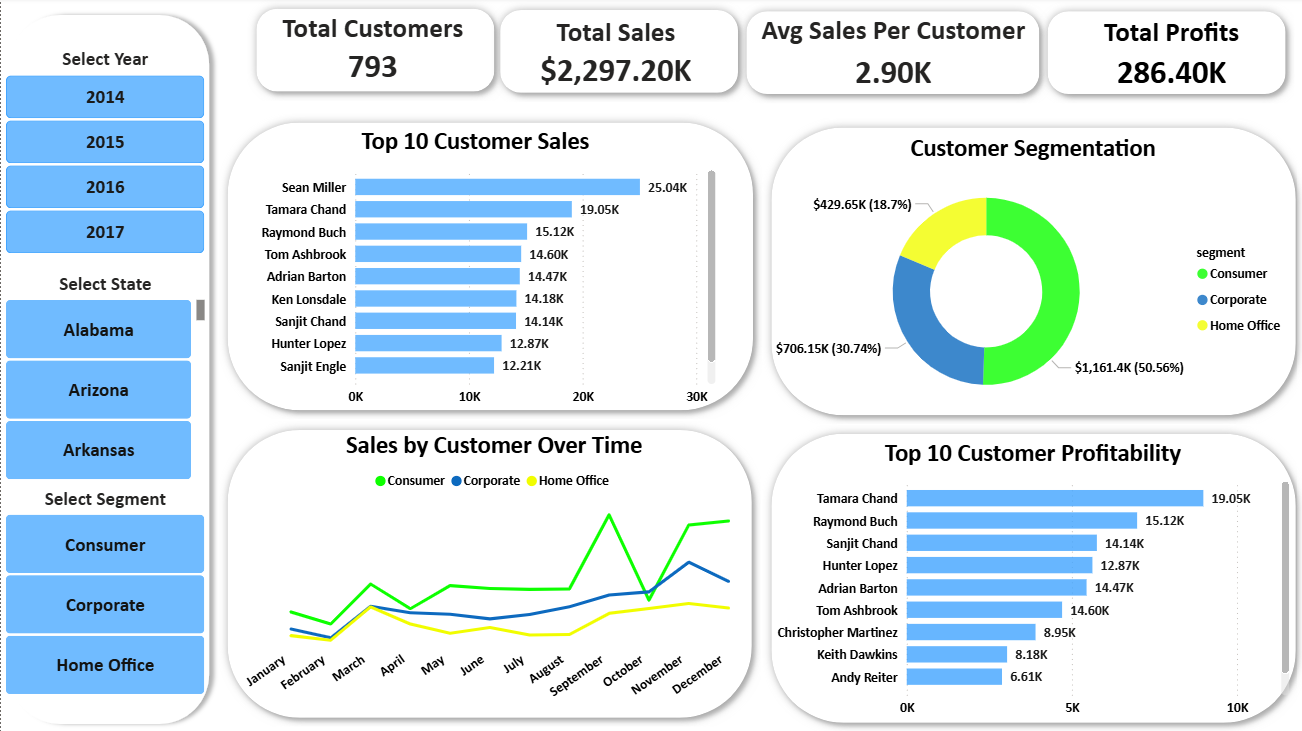

What the dashboard file says about the page in this screenshot:
{"tool":"powerbi","page":{"name":"Customers","canvas":[1280,720],"ordinal":1},"visuals":[{"type":"shape","box":[0,8.6,212.8,711.7],"z":0},{"type":"shape","box":[240.9,2.4,250.7,99],"z":1000},{"type":"shape","box":[479.4,3.7,250.7,99],"z":2000},{"type":"shape","box":[720.2,4.9,304.5,99],"z":3000},{"type":"shape","box":[212.8,113.7,531.9,299.6],"z":4000},{"type":"shape","box":[212.8,414.5,530.7,299.6],"z":5000},{"type":"shape","box":[744.2,119.1,531,299.6],"z":6000},{"type":"shape","box":[744.2,418.7,531,300.8],"z":7000},{"type":"card","title":"Total Customers","fields":{"Values":["customer.Total Customers"]},"box":[248.2,8.6,231.1,83.2],"z":8000},{"type":"card","title":"Total Sales","fields":{"Values":["customer.Total Customer Sales"]},"box":[483,12.2,237.2,83.2],"z":9000},{"type":"card","title":"Avg Sales Per Customer","fields":{"Values":["customer.Avg Sales Per Customer"]},"box":[725.1,11,295.9,83.2],"z":10000},{"type":"donutChart","title":"Customer Segmentation","fields":{"Y":["sales.Total Sales"],"Category":["customer.segment"]},"box":[753.3,127.2,512.4,286.1],"z":11000},{"type":"lineChart","title":"Sales by Customer Over Time","fields":{"Y":["sales.Total Sales"],"Category":["orders.order_date.Variation.Date Hierarchy.Month"],"Series":["customer.segment"]},"box":[232.3,418.2,500.1,286.1],"z":12000},{"type":"clusteredBarChart","title":"Top 10 Customer Sales ","fields":{"Category":["customer.customer_name"],"Y":["customer.Total Customer Sales"]},"box":[223.8,121.1,480.6,286.1],"z":13000},{"type":"clusteredBarChart","title":"Top 10 Customer Profitability","fields":{"Category":["customer.customer_name"],"Y":["sales.Total Profit"]},"box":[753.3,425.5,512.4,286.1],"z":14000},{"type":"shape","box":[1015,4.9,250.7,99],"z":15000},{"type":"card","title":"Total Profits","fields":{"Values":["sales.Total Profit"]},"box":[1024.7,12.2,240.9,81.9],"z":16000},{"type":"advancedSlicerVisual","title":"Select Year","fields":{"Values":["orders.order_date.Variation.Date Hierarchy.Year"]},"box":[0,44,204.2,214],"z":16001},{"type":"advancedSlicerVisual","title":"Select State","fields":{"Values":["orders.state"]},"box":[0,269,204.2,210.3],"z":16002},{"type":"advancedSlicerVisual","title":"Select Segment","fields":{"Values":["customer.segment"]},"box":[0,479.4,204.2,210.3],"z":16003}]}

Visuals, with their boxes in screenshot pixels (x1, y1, x2, y2), scaled from the page's 1280x720 canvas onto the 1302x731 screenshot:
shape: rect(0, 9, 216, 730)
shape: rect(245, 2, 500, 103)
shape: rect(488, 4, 743, 104)
shape: rect(733, 5, 1042, 105)
shape: rect(216, 115, 757, 420)
shape: rect(216, 421, 756, 725)
shape: rect(757, 121, 1297, 425)
shape: rect(757, 425, 1297, 730)
"Total Customers" card: rect(252, 9, 488, 93)
"Total Sales" card: rect(491, 12, 733, 97)
"Avg Sales Per Customer" card: rect(738, 11, 1039, 96)
"Customer Segmentation" donutChart: rect(766, 129, 1287, 420)
"Sales by Customer Over Time" lineChart: rect(236, 425, 745, 715)
"Top 10 Customer Sales " clusteredBarChart: rect(228, 123, 717, 413)
"Top 10 Customer Profitability" clusteredBarChart: rect(766, 432, 1287, 722)
shape: rect(1032, 5, 1287, 105)
"Total Profits" card: rect(1042, 12, 1287, 96)
"Select Year" advancedSlicerVisual: rect(0, 45, 208, 262)
"Select State" advancedSlicerVisual: rect(0, 273, 208, 487)
"Select Segment" advancedSlicerVisual: rect(0, 487, 208, 700)
